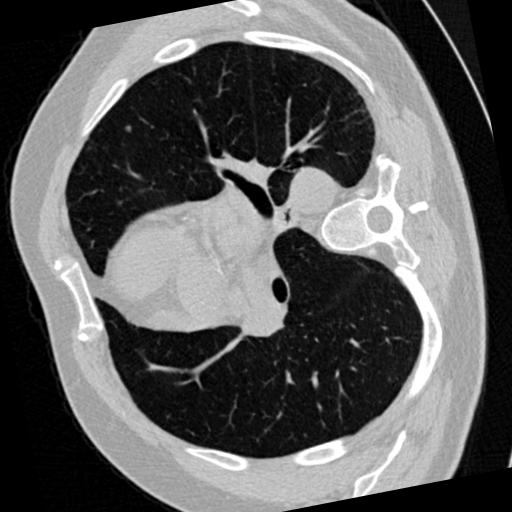nodule: (123, 123, 136, 136)
